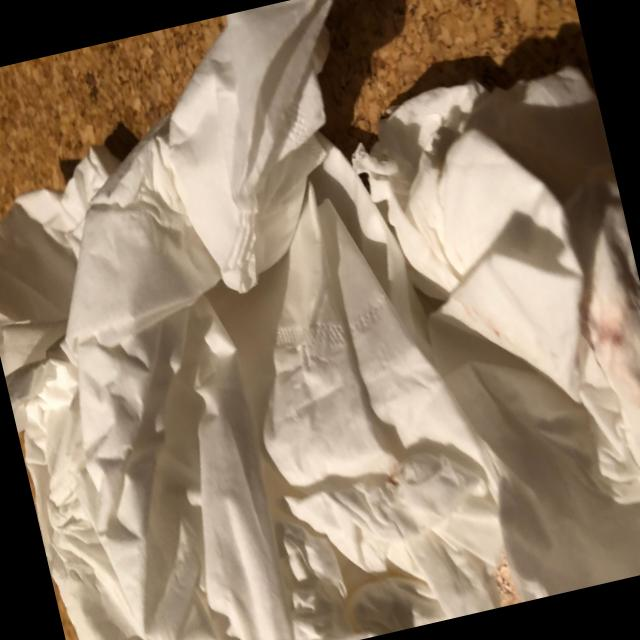organic waste: (305, 70, 640, 625), (342, 46, 640, 543), (0, 133, 238, 640), (213, 209, 490, 640), (78, 253, 343, 640), (136, 0, 403, 298)
